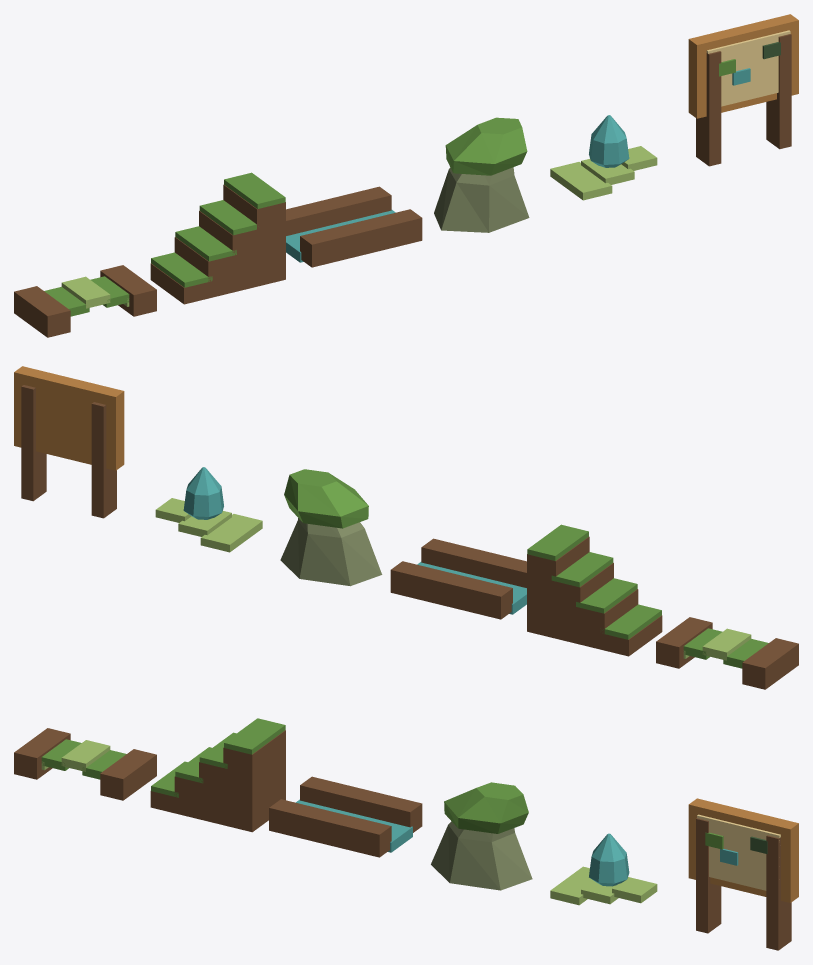
Rendered from sum-nahida-map-model.obj.
The picture shows the model from 3 angles, top to bottom: view 1: azimuth 30°, elevation 25°; view 2: azimuth 150°, elevation 25°; view 3: azimuth 330°, elevation 25°; orthographic projection.
Visible parts, largest first — view 1: DiscoveryMap; view 2: DiscoveryMap; view 3: DiscoveryMap.
Part boxes in pixels (bbox=[...]): DiscoveryMap: bbox=[14, 14, 798, 337]; DiscoveryMap: bbox=[14, 366, 798, 689]; DiscoveryMap: bbox=[14, 718, 798, 950].
Size of the model in its own units: 6.3 by 0.96 by 0.61.
